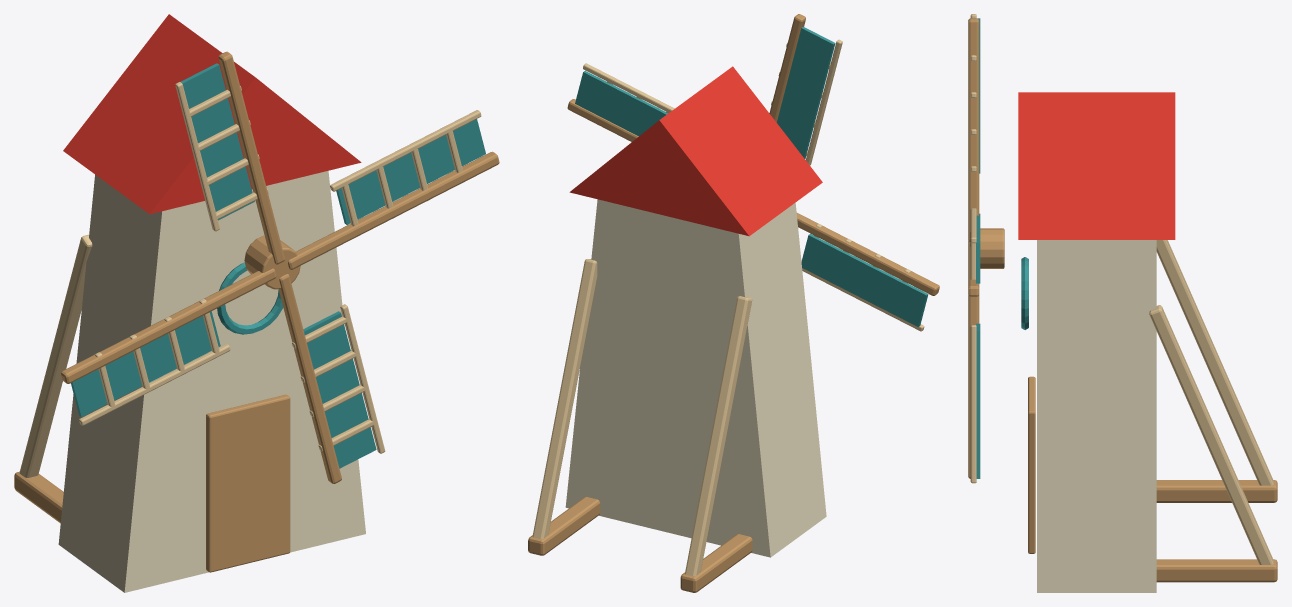
Rendered from S100_scenic_windmill.glb.
3 views of the same model, side by side, from view 1: azimuth 30°, elevation 25°; view 2: azimuth 150°, elevation 25°; view 3: azimuth 270°, elevation 25° (orthographic). The views are drawn at different scales.
Parts seen in each view (by area): view 1: windmill_facade, mill_roof, mill_door, canvas_sail.003, canvas_sail.001, canvas_sail, canvas_sail.002, mill_back_brace, sail_spar.002, sail_spar, sail_spar.001, sail_spar.003 (+7 smaller); view 2: windmill_facade, mill_roof, canvas_sail.002, mill_back_brace, mill_back_brace.001, canvas_sail.001, canvas_sail, sail_spar.002, windmill_back_foot.001, windmill_back_foot, sail_spar.001, sail_edge.001 (+2 smaller); view 3: windmill_facade, mill_roof, mill_back_brace.001, mill_back_brace, windmill_back_foot.001, windmill_back_foot, sail_spar.001, mill_door, sail_edge.003, sail_hub, sail_spar.003, canvas_sail.003 (+1 smaller).
Part boxes in pixels (bbox=[...]): windmill_facade: bbox=[58, 170, 365, 592]; mill_roof: bbox=[63, 14, 361, 214]; mill_door: bbox=[206, 394, 290, 572]; canvas_sail.003: bbox=[303, 311, 376, 468]; canvas_sail.001: bbox=[180, 63, 254, 220]; canvas_sail: bbox=[336, 119, 485, 224]; canvas_sail.002: bbox=[71, 311, 220, 417]; mill_back_brace: bbox=[19, 234, 92, 477]; sail_spar.002: bbox=[61, 268, 276, 383]; sail_spar: bbox=[288, 151, 499, 269]; sail_spar.001: bbox=[218, 51, 284, 264]; sail_spar.003: bbox=[278, 274, 341, 483]; windmill_facade: bbox=[565, 199, 826, 557]; mill_roof: bbox=[569, 66, 822, 236]; canvas_sail.002: bbox=[801, 234, 928, 326]; mill_back_brace: bbox=[685, 296, 752, 576]; mill_back_brace.001: bbox=[532, 259, 597, 539]; canvas_sail.001: bbox=[776, 26, 835, 158]; canvas_sail: bbox=[575, 70, 667, 136]; sail_spar.002: bbox=[796, 213, 939, 295]; windmill_back_foot.001: bbox=[528, 496, 600, 555]; windmill_back_foot: bbox=[680, 534, 752, 592]; sail_spar.001: bbox=[769, 14, 805, 122]; sail_edge.001: bbox=[806, 39, 842, 165]; windmill_facade: bbox=[1037, 240, 1156, 592]; mill_roof: bbox=[1018, 92, 1175, 239]; mill_back_brace.001: bbox=[1149, 305, 1273, 564]; mill_back_brace: bbox=[1156, 240, 1273, 485]; windmill_back_foot.001: bbox=[1156, 559, 1277, 582]; windmill_back_foot: bbox=[1156, 480, 1277, 502]; sail_spar.001: bbox=[968, 18, 979, 241]; mill_door: bbox=[1028, 376, 1035, 553]; sail_edge.003: bbox=[970, 325, 976, 483]; sail_hub: bbox=[970, 228, 1004, 268]; sail_spar.003: bbox=[968, 295, 979, 478]; canvas_sail.003: bbox=[976, 323, 980, 478].
Bounding box in the file's own units: 2.66 × 3.21 × 1.81.
